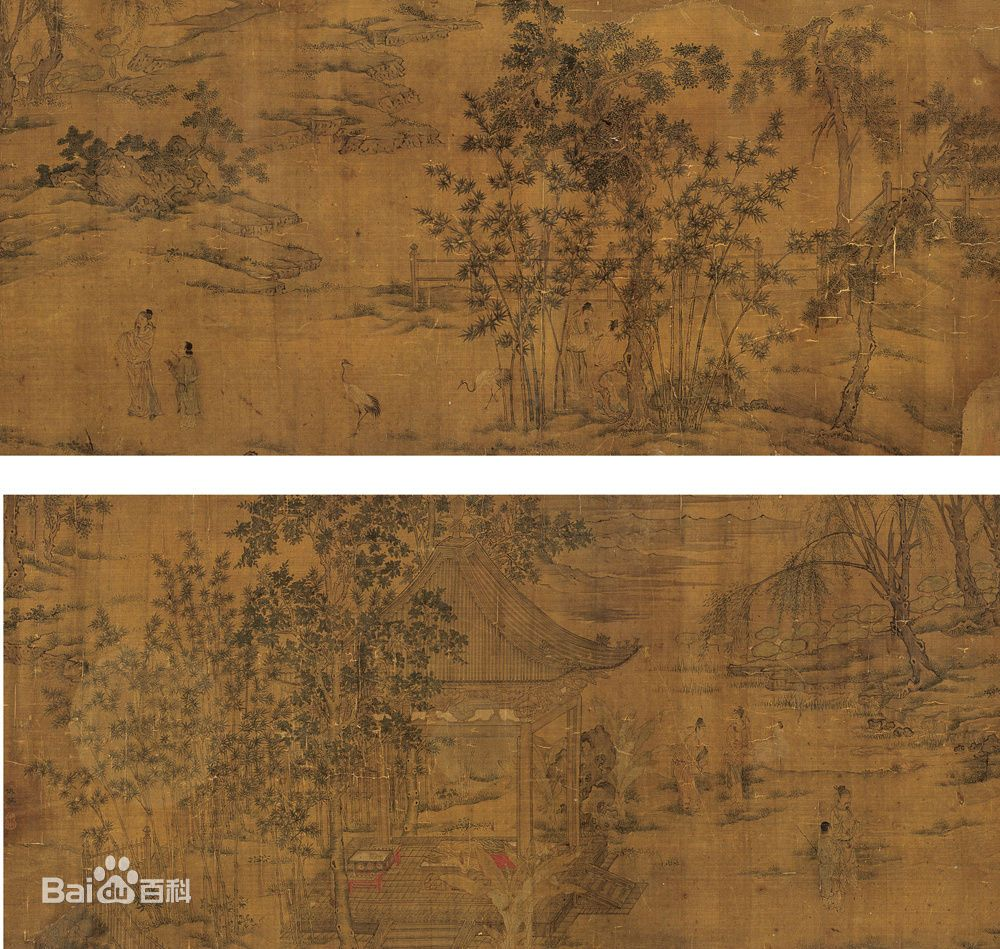bamboo: (664, 144, 783, 323), (83, 629, 187, 810), (426, 164, 510, 340), (191, 630, 253, 770), (198, 787, 245, 944), (260, 804, 312, 942), (510, 260, 547, 415), (152, 556, 227, 625), (697, 118, 782, 176), (665, 341, 710, 421), (521, 214, 602, 257), (738, 333, 793, 361), (739, 293, 785, 317), (468, 109, 495, 149), (759, 266, 801, 288), (781, 238, 830, 255)
booth: (349, 838, 634, 918), (453, 560, 640, 677), (442, 685, 589, 721), (517, 727, 535, 836), (571, 706, 579, 859)
chessboard: (355, 849, 389, 862)
crane: (338, 359, 380, 436), (462, 367, 510, 406)
decoration: (351, 874, 383, 890)
kid: (168, 344, 201, 419)
man: (115, 311, 156, 421), (571, 306, 596, 396), (595, 322, 618, 368)
table: (437, 837, 558, 870)
tree: (515, 33, 731, 158), (237, 528, 320, 797), (321, 529, 361, 942), (59, 137, 266, 202), (367, 526, 421, 746), (613, 155, 652, 432), (739, 20, 877, 92), (916, 93, 1000, 192), (1, 1, 56, 124), (473, 526, 596, 577), (845, 268, 876, 421), (856, 74, 901, 167), (828, 87, 854, 239), (945, 219, 998, 270), (896, 212, 948, 251)
wall: (409, 251, 421, 306), (931, 198, 995, 205), (882, 175, 892, 204), (965, 187, 971, 215)
